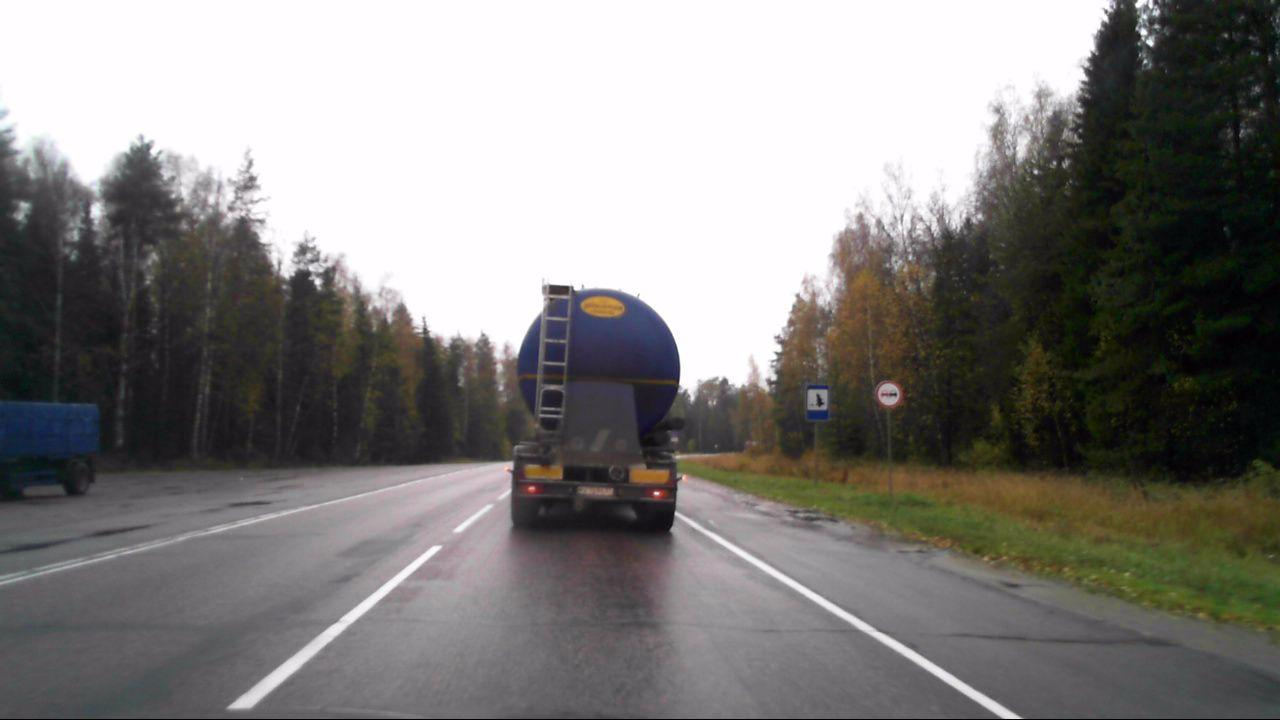3_20: (876, 380, 902, 408)
7_11: (804, 384, 831, 421)
